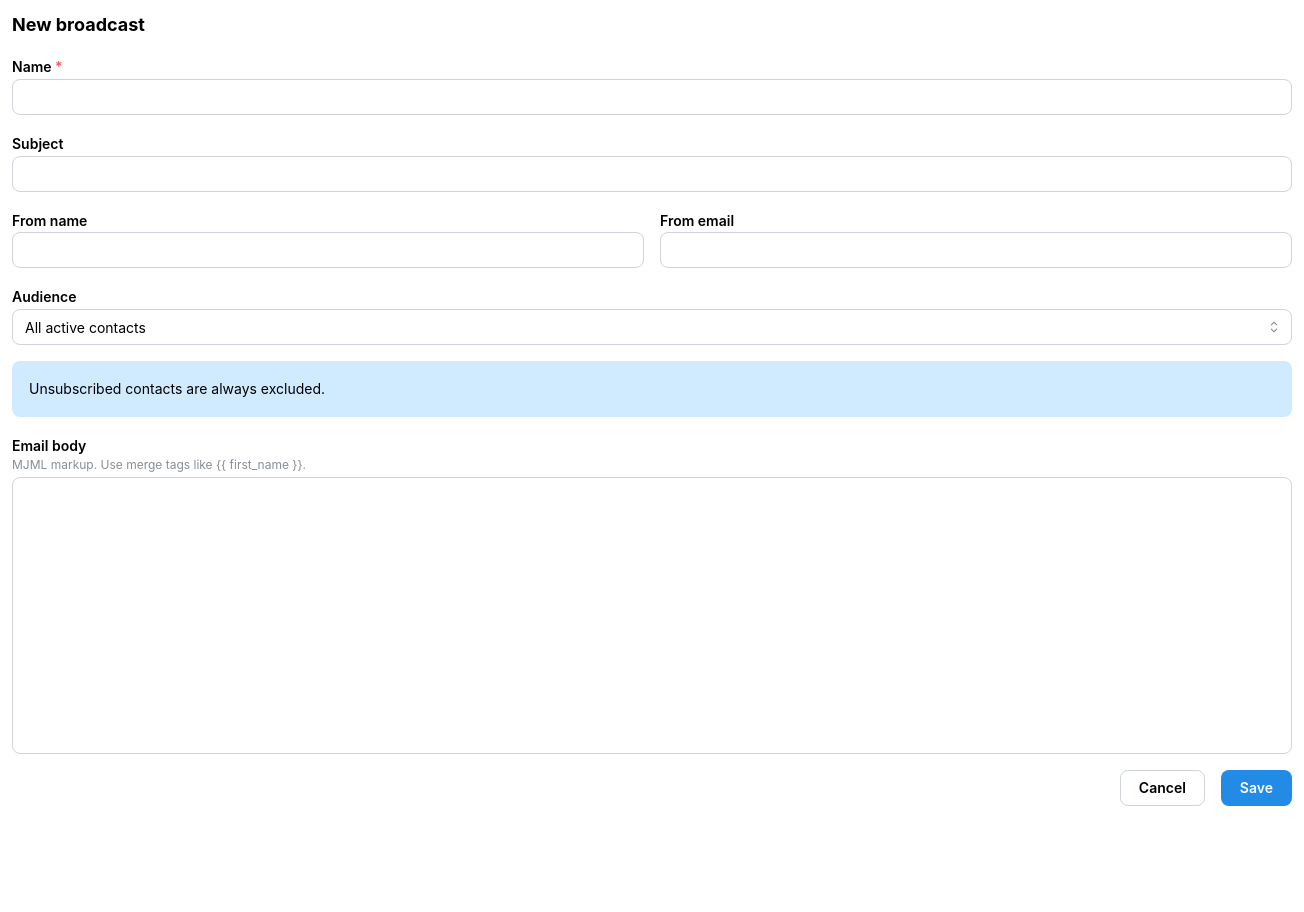
Test: creating a broadcast sends only the filled keys, refreshes the list and opens the edit page
Type "Launch" into the field labelled "Name *" at (652, 97), box [12, 79, 1292, 115]
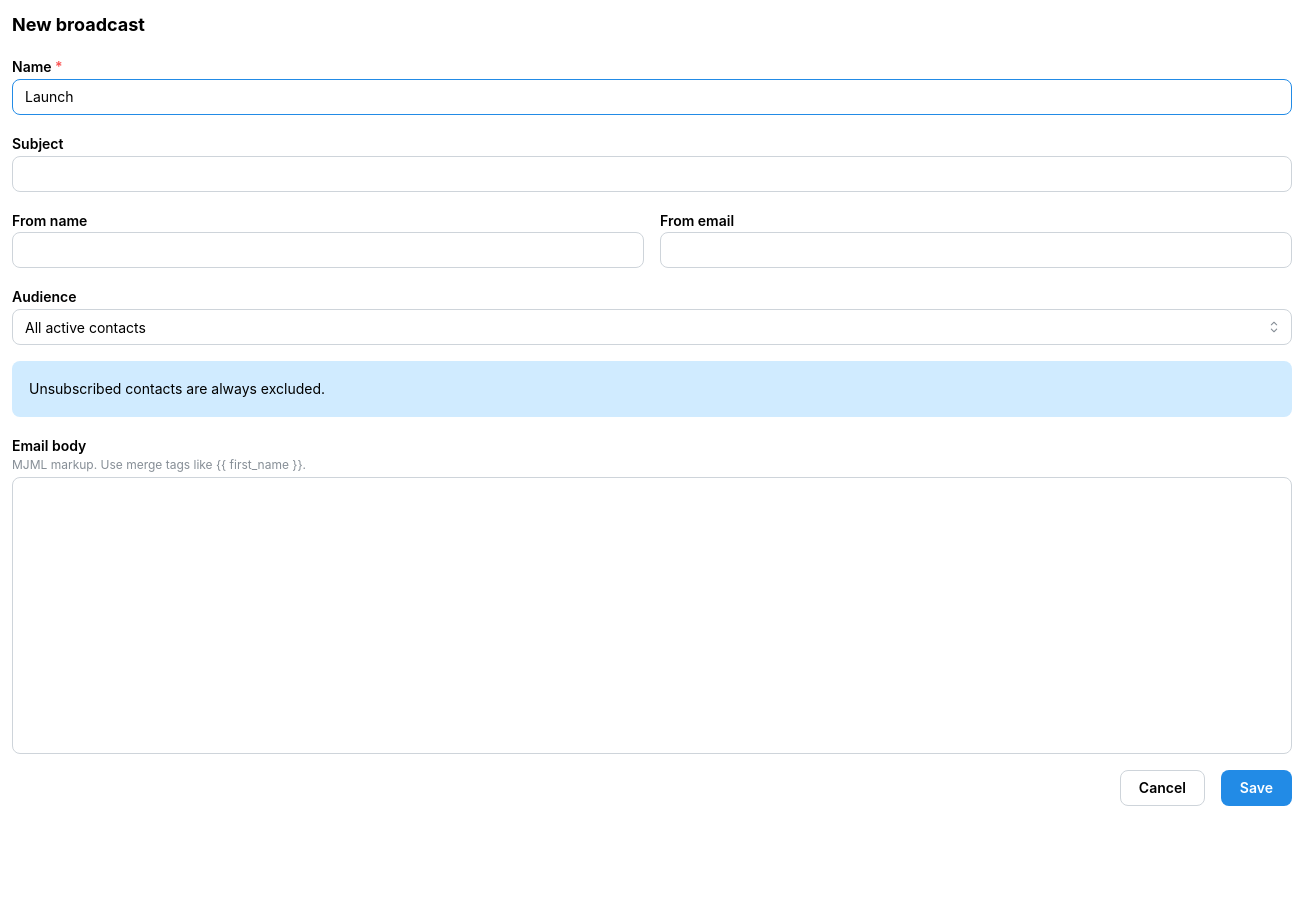
Type "Hello" into the field labelled "Subject" at (652, 174), box [12, 156, 1292, 192]
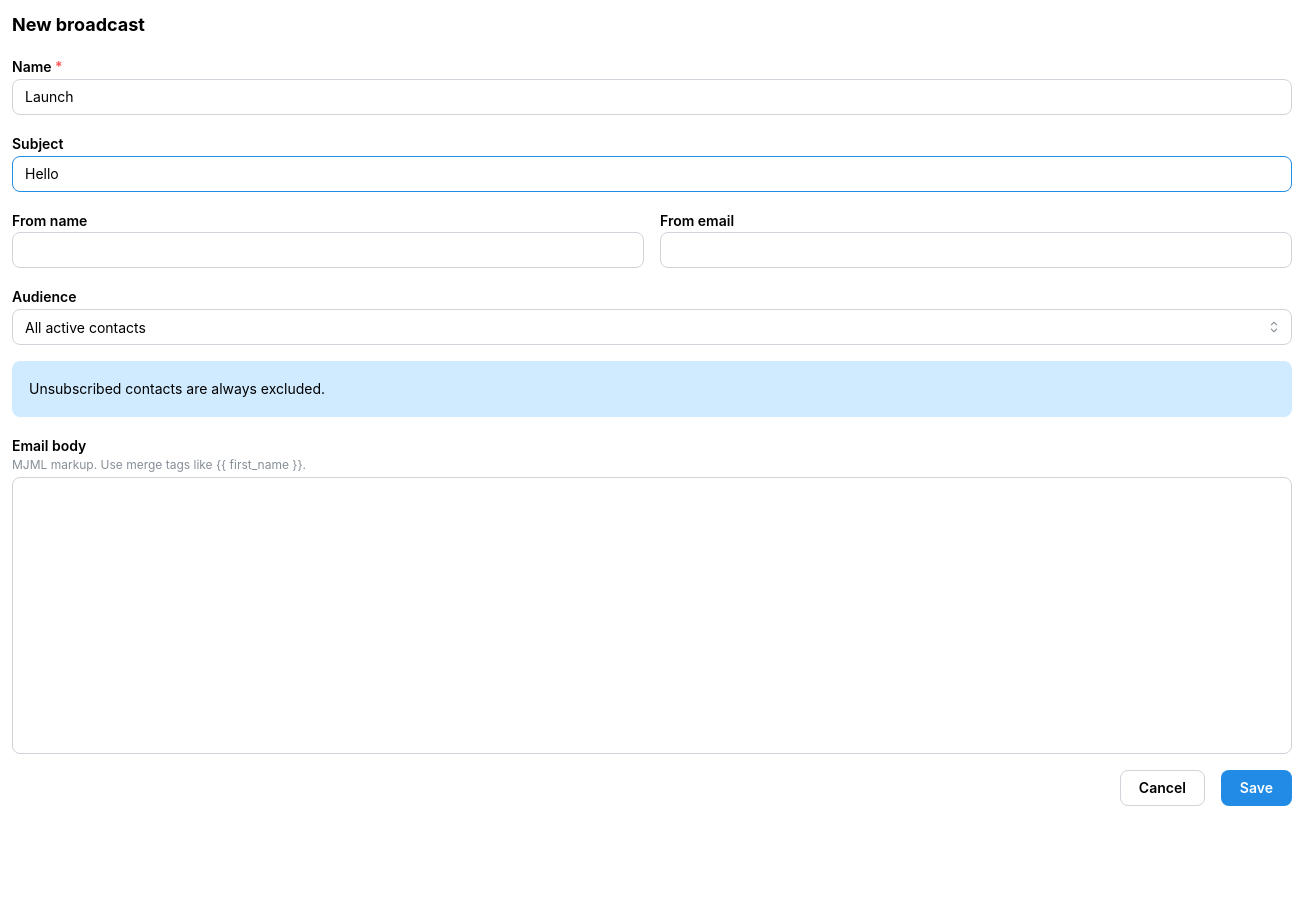
Click the button "Save" at (1256, 788), box [1221, 770, 1292, 806]
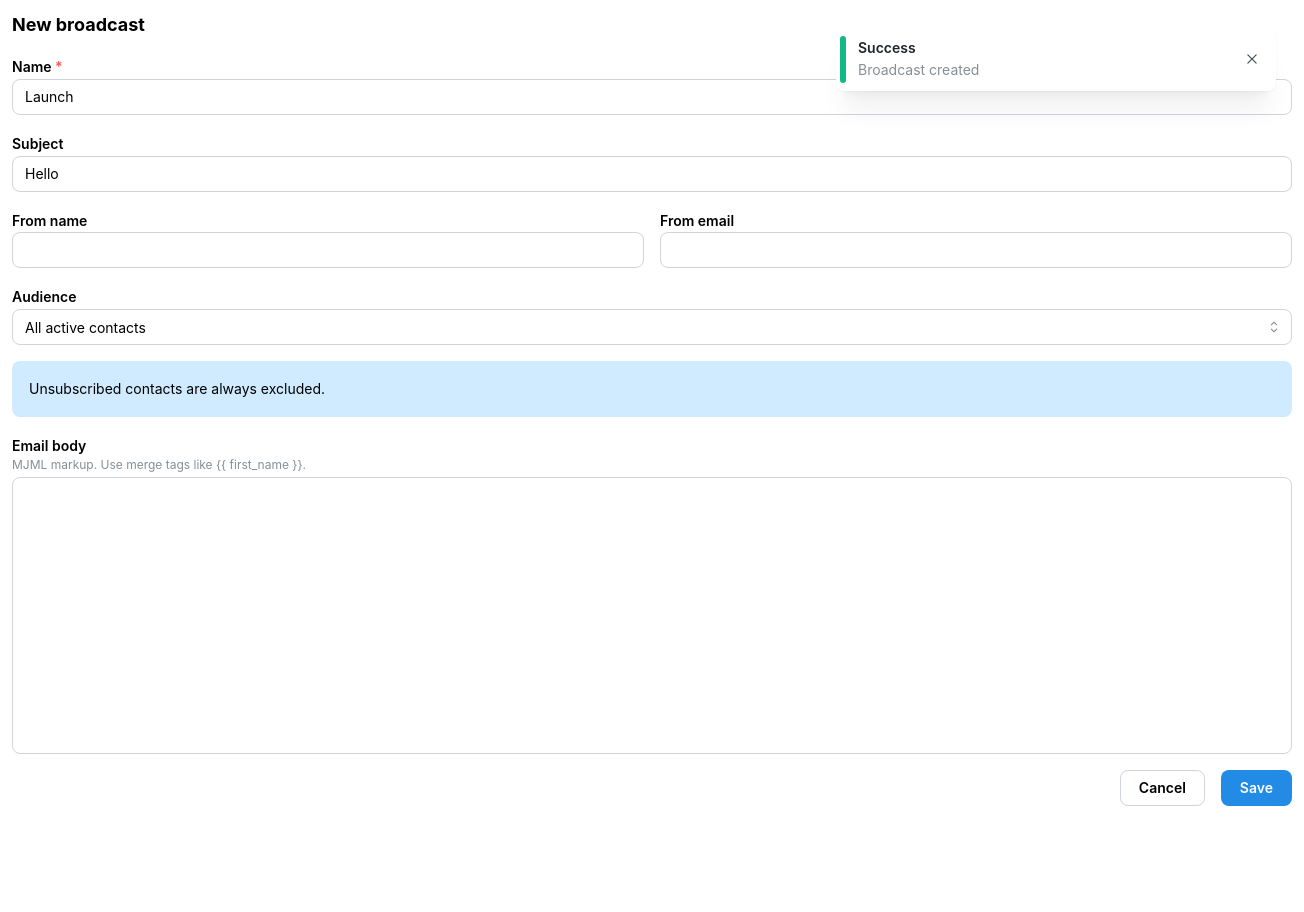
Result: the text "Broadcast created" is shown at [858, 61, 980, 78]
